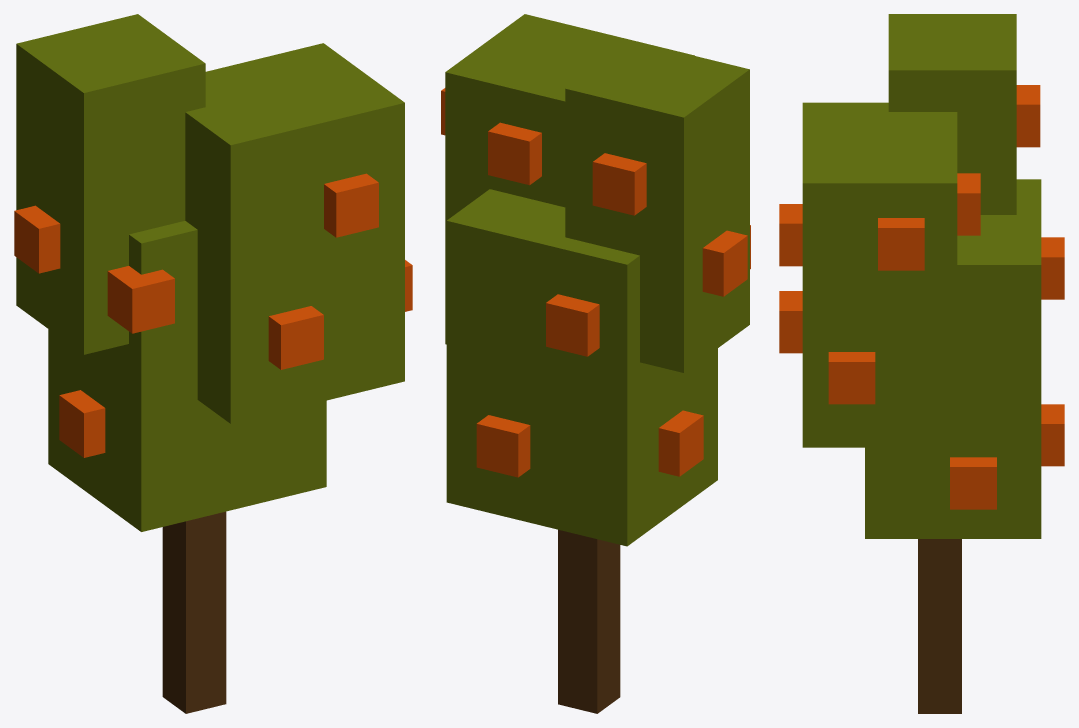
Rendered from FarmFruitTreeRed_01.fbx.
3 views of the same model, side by side, from view 1: azimuth 30°, elevation 25°; view 2: azimuth 150°, elevation 25°; view 3: azimuth 270°, elevation 25° (orthographic). The views are drawn at different scales.
Parts seen in each view (by area): view 1: FarmFruitTreeRed_01; view 2: FarmFruitTreeRed_01; view 3: FarmFruitTreeRed_01.
Part boxes in pixels (box(x1,y1,x2,y2)): FarmFruitTreeRed_01: box(14, 14, 412, 713); FarmFruitTreeRed_01: box(441, 14, 750, 713); FarmFruitTreeRed_01: box(779, 14, 1064, 713).
Size of the model in its own units: 0.4124 by 0.817 by 0.3373.
